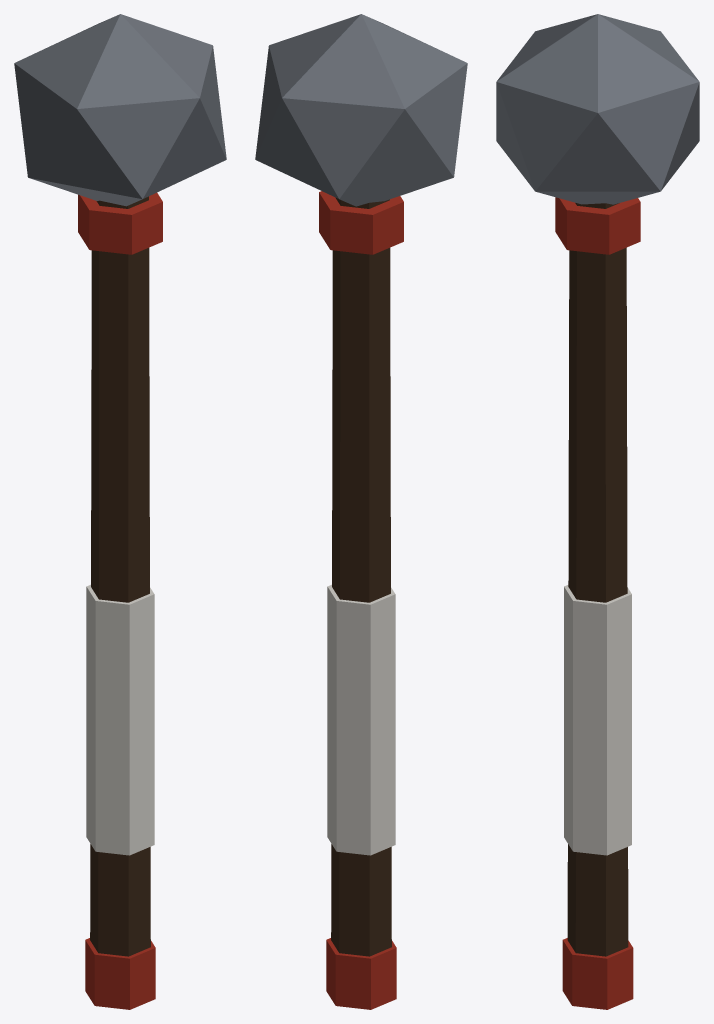
File: weapon_warhammer.glb
3 views of the same model, side by side, from view 1: azimuth 30°, elevation 25°; view 2: azimuth 150°, elevation 25°; view 3: azimuth 270°, elevation 25° (orthographic).
Parts seen in each view (by area): view 1: elephant_weapon_warhammer; view 2: elephant_weapon_warhammer; view 3: elephant_weapon_warhammer.
Boxes of the visible parts, x1,y1,x2,y2 form: elephant_weapon_warhammer: [14, 14, 226, 1009]; elephant_weapon_warhammer: [255, 14, 467, 1009]; elephant_weapon_warhammer: [496, 14, 699, 1009].
Size of the model in its own units: 0.2039 by 1.03 by 0.1939.
